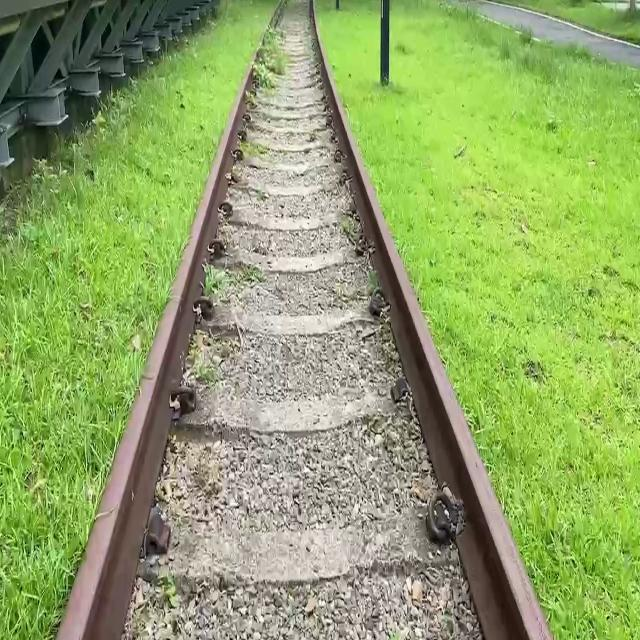rail-track: (126, 0, 482, 639)
